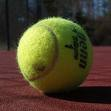tennis ball: (16, 14, 94, 96)
